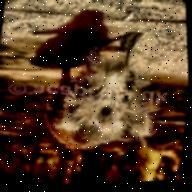boar: (38, 18, 171, 164)
